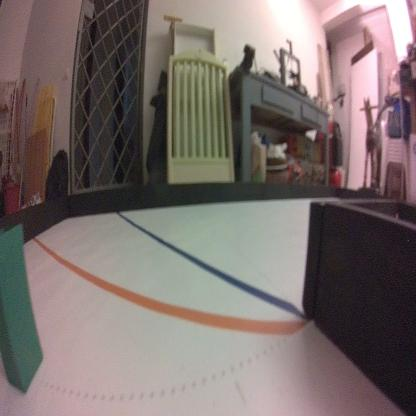green: (0, 220, 47, 400)
